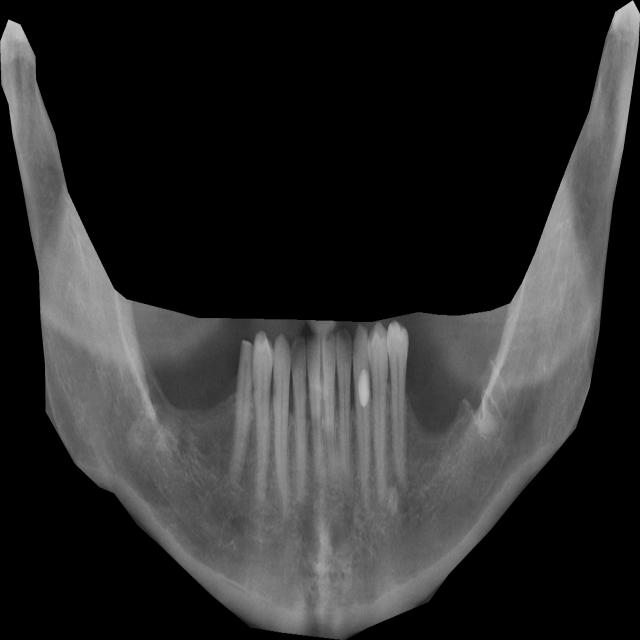mandibula: (0, 0, 640, 640)
